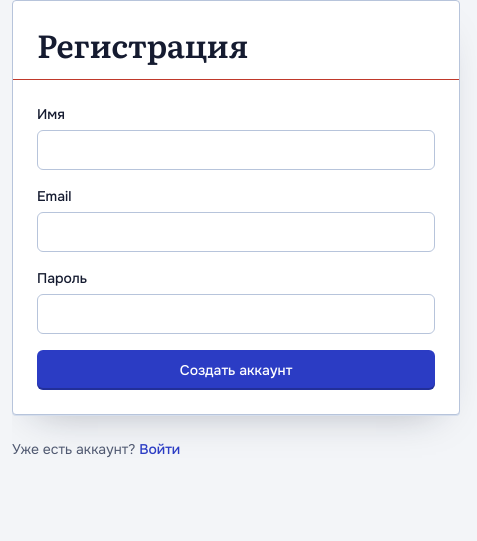
Scenario: RegisterForm › shows a Russian validation message
Click the button "Создать аккаунт" at (236, 370), box [37, 350, 435, 390]
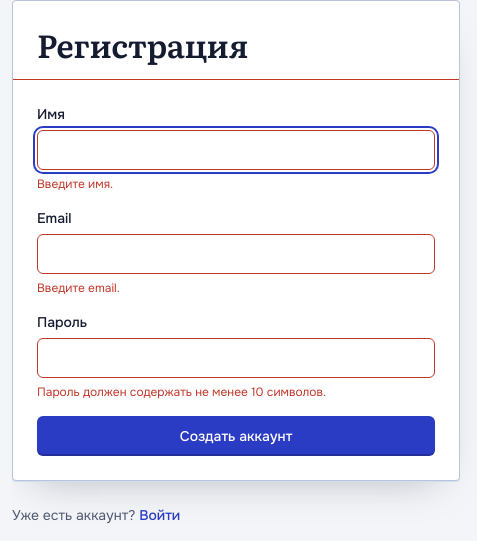
Now the text "Введите имя." is shown, box [37, 176, 113, 192]
